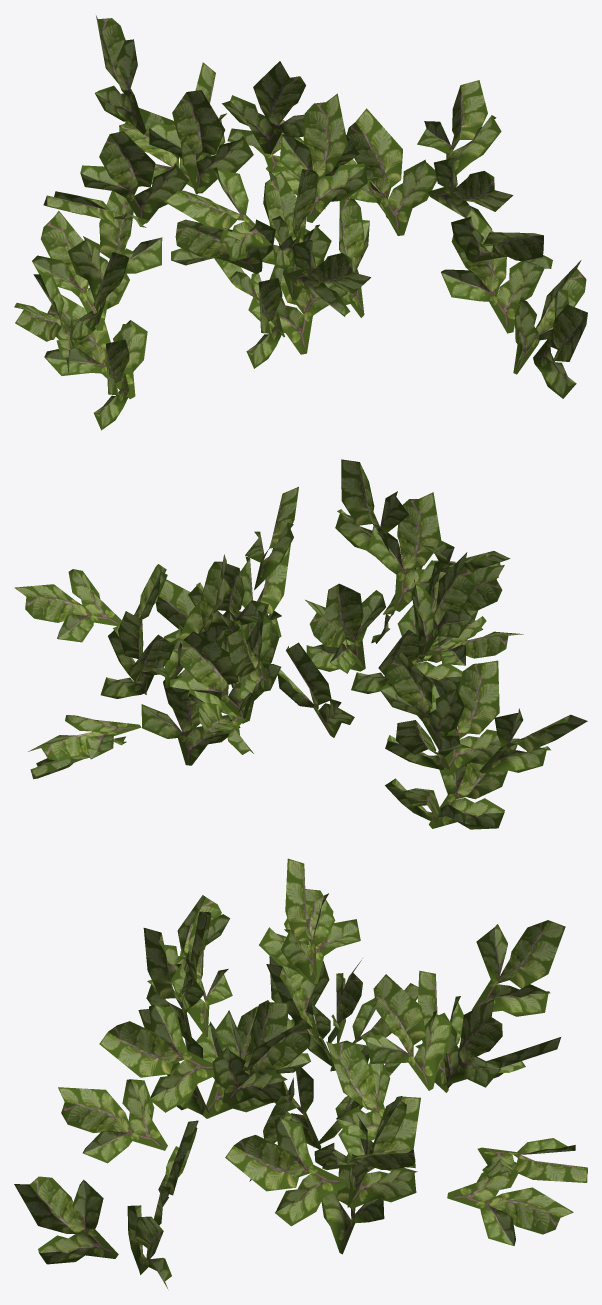
File: MA_TreeVeget.FBX
The picture shows the model from 3 angles, top to bottom: view 1: azimuth 30°, elevation 25°; view 2: azimuth 150°, elevation 25°; view 3: azimuth 270°, elevation 25°; orthographic projection. The views are drawn at different scales.
Parts seen in each view (by area): view 1: MA_TreeVeget; view 2: MA_TreeVeget; view 3: MA_TreeVeget.
Part boxes in pixels (x1=…): MA_TreeVeget: x1=14, y1=15, x2=587, y2=430; MA_TreeVeget: x1=14, y1=459, x2=587, y2=829; MA_TreeVeget: x1=14, y1=858, x2=587, y2=1288.
Size of the model in its own units: 164 by 92.35 by 155.
